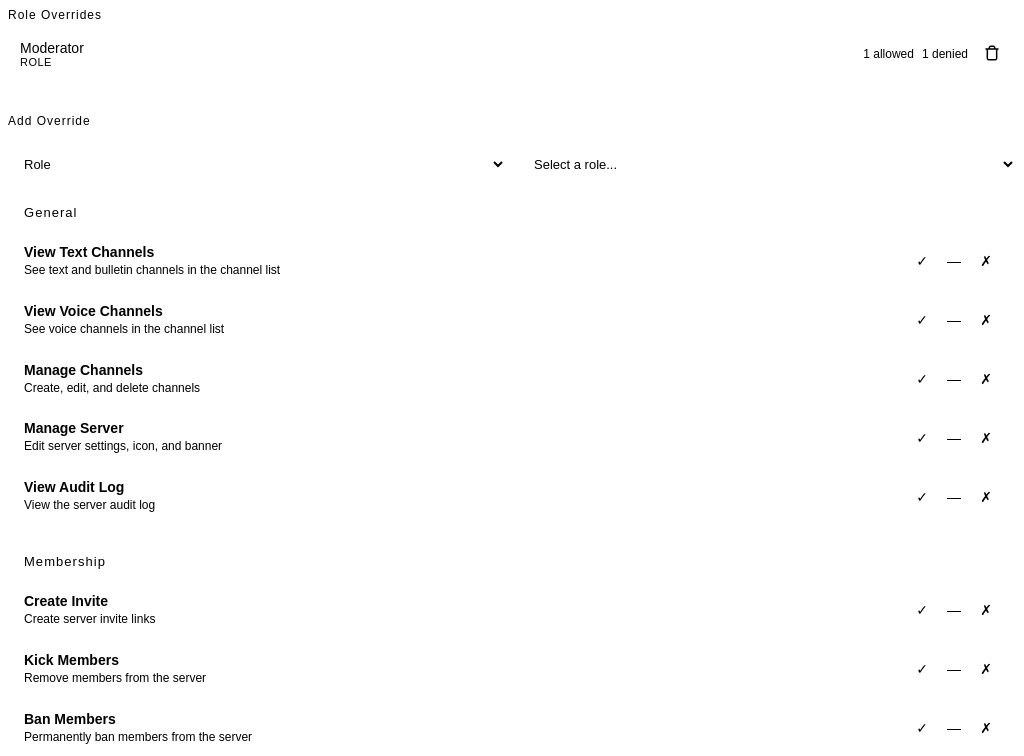
it: OverridePanel › hides Add Override when override is selected
The image size is (1024, 756).
Expected: the text "Add Override" is shown, [8,114,91,128]
Expected: the text with class "override-target-name" reads "Moderator", [20,40,84,56]
Click the button with class "override-item-select" at (52, 48), box [20,40,968,68]
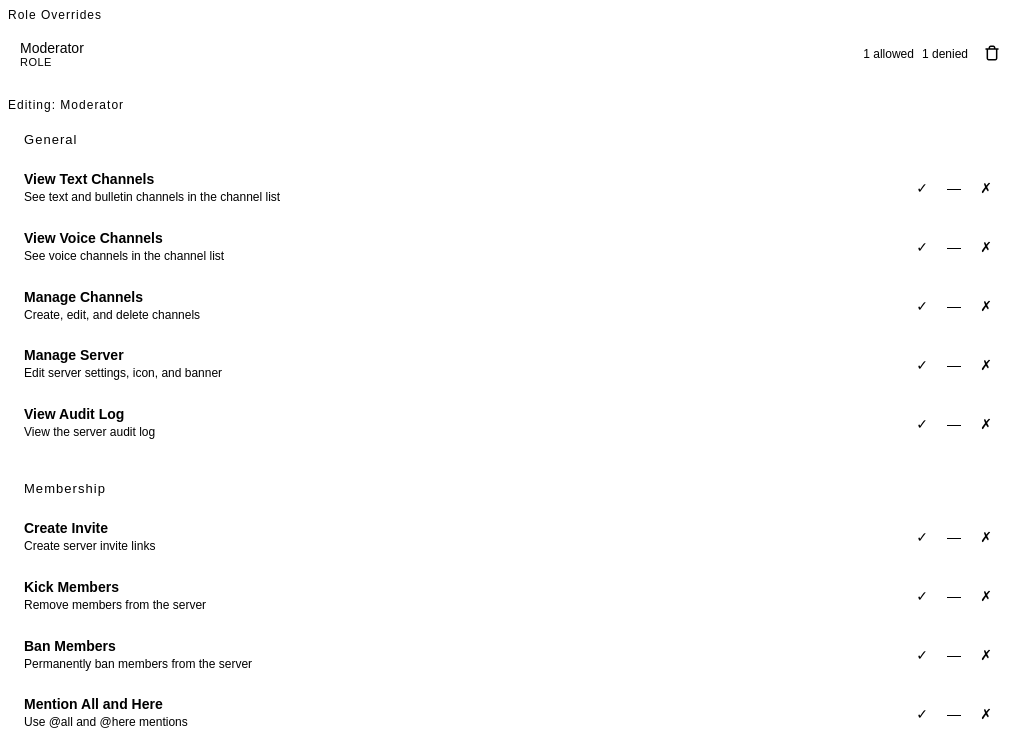
Expected: the text "Add Override" is gone
